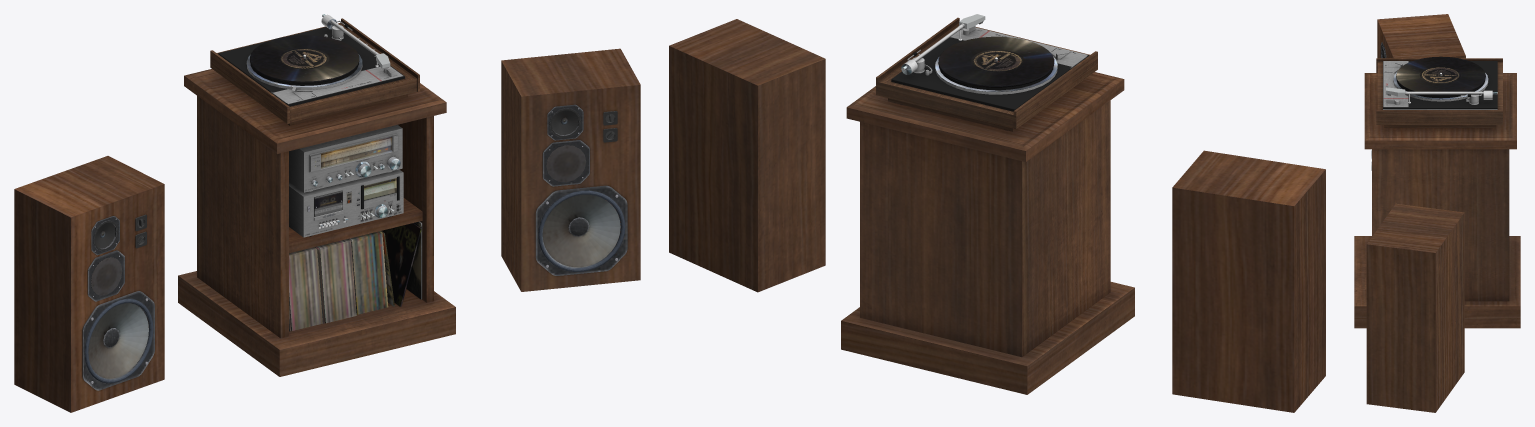
3 views of the same model, side by side, from view 1: azimuth 30°, elevation 25°; view 2: azimuth 150°, elevation 25°; view 3: azimuth 270°, elevation 25° (orthographic). The views are drawn at different scales.
Visible parts, largest first — view 1: Stereo SM; view 2: Stereo SM; view 3: Stereo SM.
Boxes of the visible parts, left/top/right/bottom form: Stereo SM: left=14, top=14, right=640, bottom=412; Stereo SM: left=669, top=14, right=1325, bottom=412; Stereo SM: left=1354, top=14, right=1520, bottom=412.
Size of the model in its own units: 355 by 152 by 104.
1 material, 1 textured.
